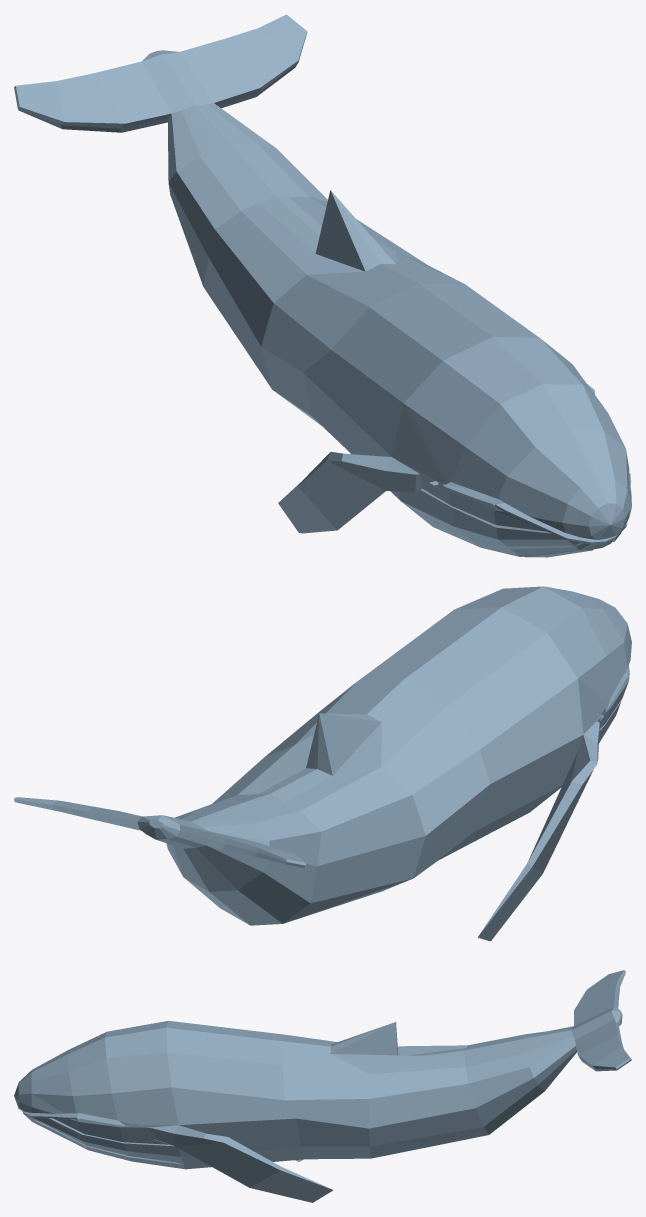
The model's file is quaternius_Whale.glb.
3 renders of one model, top to bottom at view 1: azimuth 30°, elevation 25°; view 2: azimuth 150°, elevation 25°; view 3: azimuth 270°, elevation 25°, orthographic. The views are drawn at different scales.
Size of the model in its own units: 0.1649 by 0.1496 by 0.4572.
